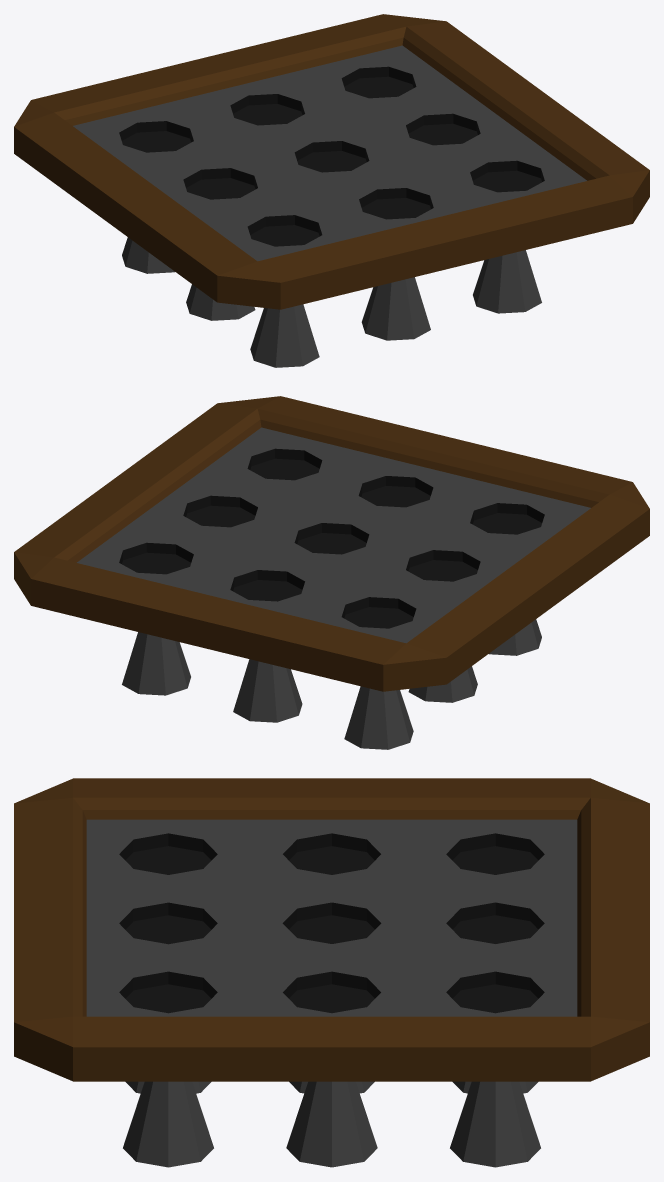
File: Spikes.fbx
The picture shows the model from 3 angles, top to bottom: view 1: azimuth 30°, elevation 25°; view 2: azimuth 150°, elevation 25°; view 3: azimuth 270°, elevation 25°; orthographic projection. The views are drawn at different scales.
Parts seen in each view (by area): view 1: Cube, Cube.001; view 2: Cube, Cube.001; view 3: Cube, Cube.001.
Part boxes in pixels (x1,y1,x2,y2): Cube: (14, 14, 649, 309); Cube.001: (122, 237, 541, 367); Cube: (14, 396, 649, 691); Cube.001: (122, 619, 541, 749); Cube: (14, 778, 649, 1081); Cube.001: (123, 1081, 540, 1167).
Size of the model in its own units: 200 by 59.66 by 200.
